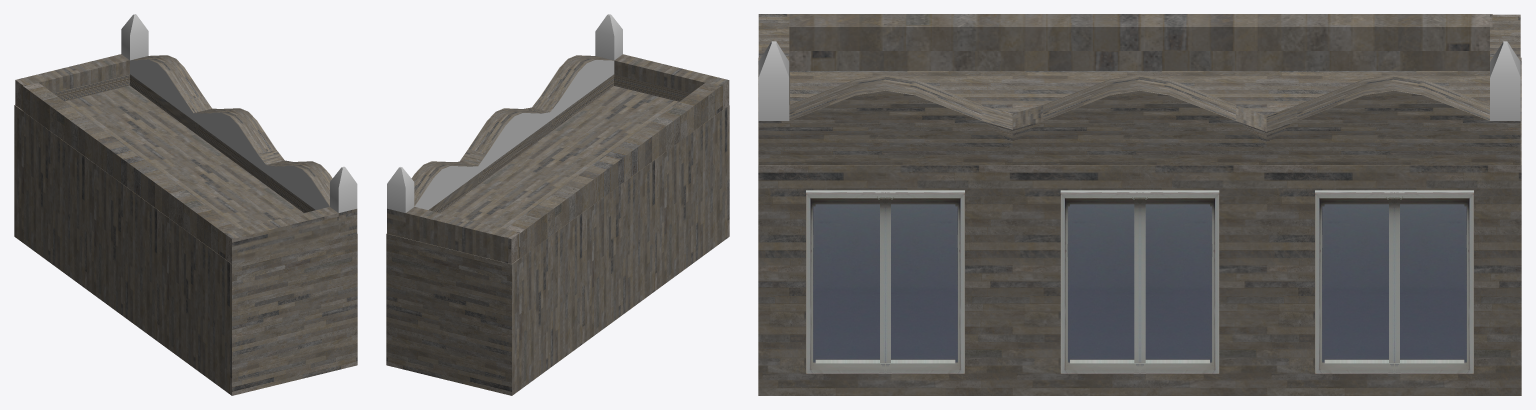
Rendered from Top_with_window.fbx.
3 renders of one model, left to right at view 1: azimuth 30°, elevation 25°; view 2: azimuth 150°, elevation 25°; view 3: azimuth 270°, elevation 25°, orthographic. The views are drawn at different scales.
Visible parts, largest first — view 1: Cube.024; view 2: Cube.024; view 3: Cube.024.
Part boxes in pixels (left/top/right/bottom): Cube.024: left=14, top=14, right=357, bottom=395; Cube.024: left=386, top=14, right=729, bottom=395; Cube.024: left=758, top=14, right=1521, bottom=395.
Size of the model in its own units: 600 by 299 by 206.
